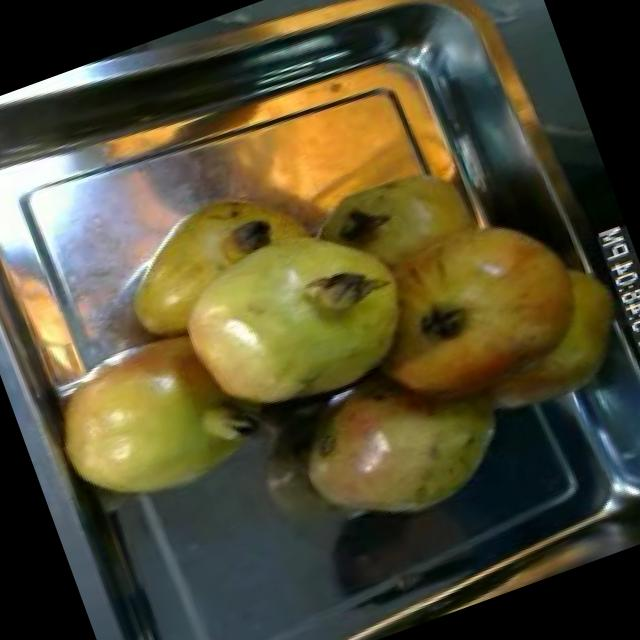fruit: (113, 129, 440, 455), (324, 178, 618, 450), (21, 296, 281, 546), (271, 334, 534, 555)
